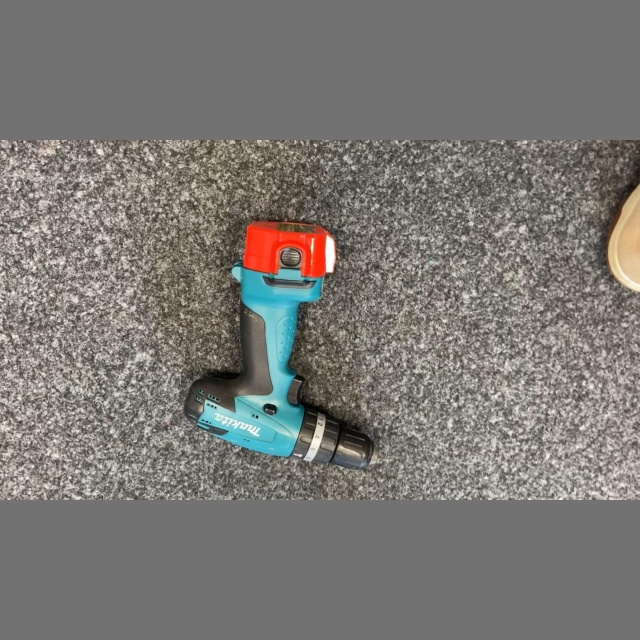drill: (178, 213, 393, 475)
